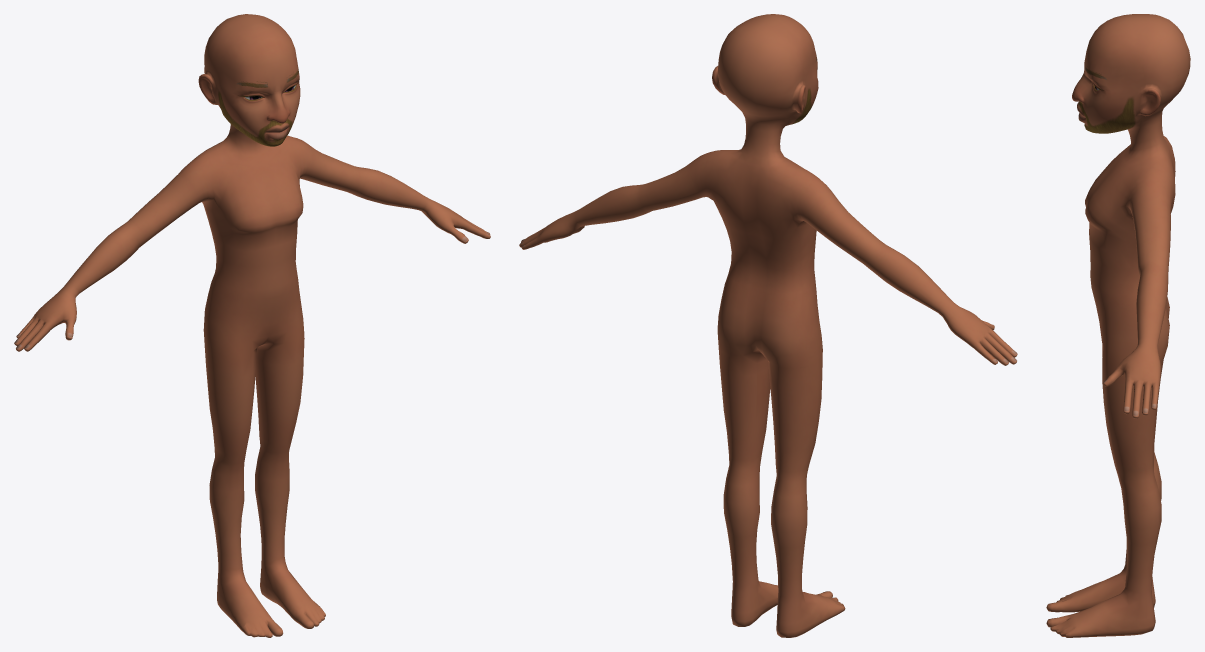
File: frame_0081.glb
3 renders of one model, left to right at view 1: azimuth 30°, elevation 25°; view 2: azimuth 150°, elevation 25°; view 3: azimuth 270°, elevation 25°, orthographic. The views are drawn at different scales.
Visible parts, largest first — view 1: frame_0081_head_geo; view 2: frame_0081_head_geo; view 3: frame_0081_head_geo.
Boxes of the visible parts, x1=… form: frame_0081_head_geo: x1=14, y1=14, x2=490, y2=637; frame_0081_head_geo: x1=519, y1=14, x2=1017, y2=637; frame_0081_head_geo: x1=1046, y1=14, x2=1190, y2=637.
Bounding box in the file's own units: 1.28 × 1.5 × 0.3253.
Materials: 3 (3 with a texture image).
